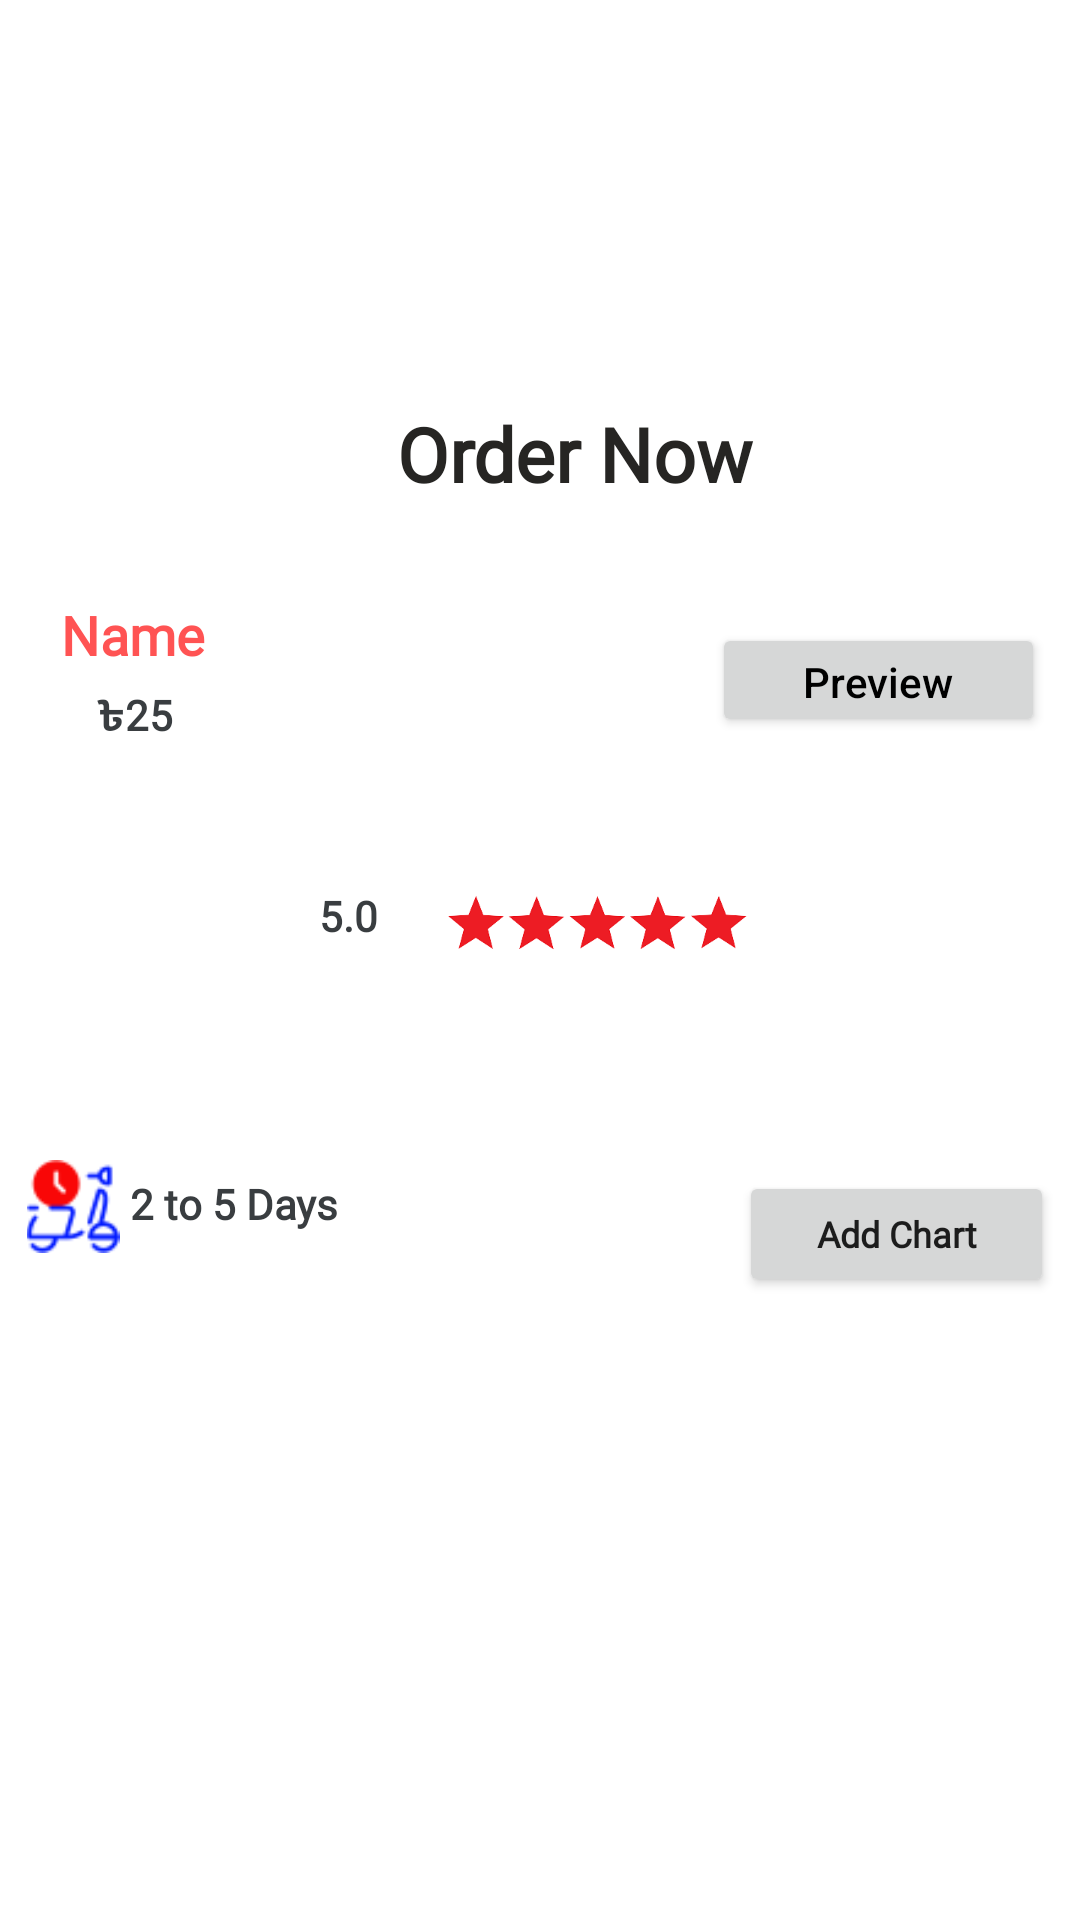

Point at icon controls on the screen. Image size 1080×1920, points as point (x, y).
dtime: point (73, 1206)
star: point (597, 922)
